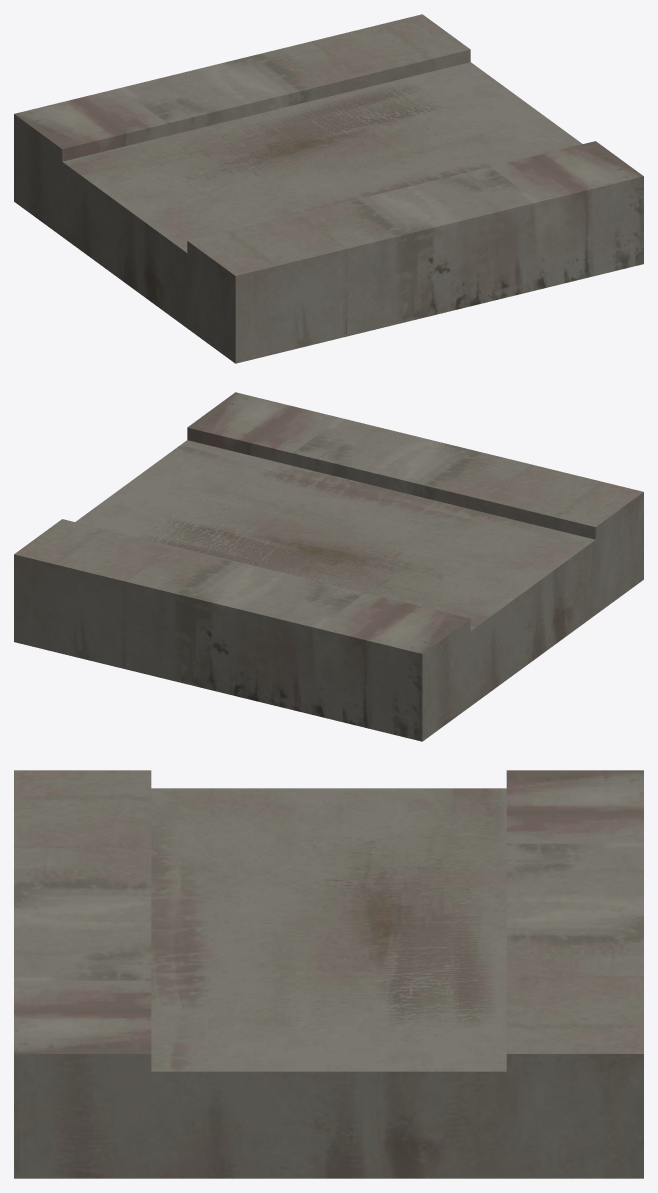
The model's file is ceiling_01.fbx.
The picture shows the model from 3 angles, top to bottom: view 1: azimuth 30°, elevation 25°; view 2: azimuth 150°, elevation 25°; view 3: azimuth 270°, elevation 25°; orthographic projection. The views are drawn at different scales.
Parts seen in each view (by area): view 1: Box066; view 2: Box066; view 3: Box066.
Part boxes in pixels (x1,y1,x2,y2): Box066: (14,14,643,363); Box066: (14,392,643,741); Box066: (14,770,643,1178).
Size of the model in its own units: 598 by 123 by 562.
